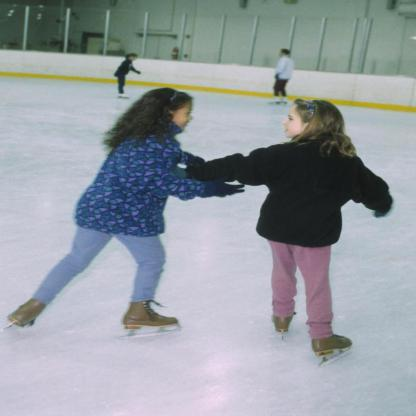face: (283, 104, 309, 139), (174, 101, 194, 132), (132, 56, 137, 61), (280, 52, 285, 57)
